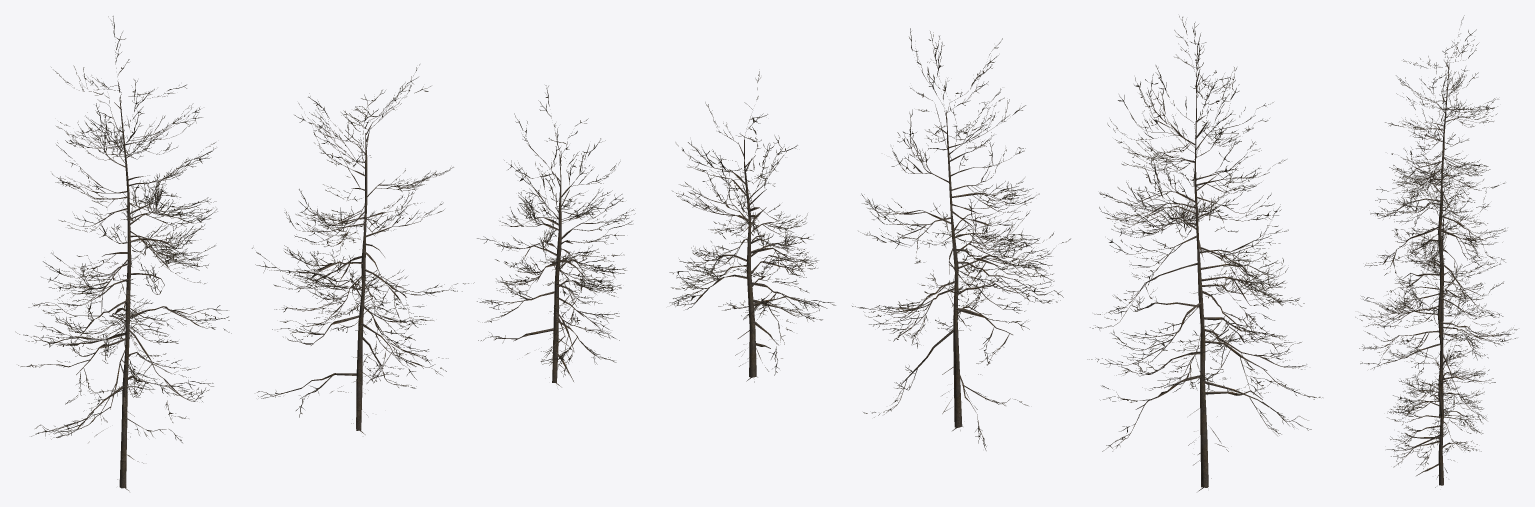
File: pine_sapling_medium_preview.glb
3 views of the same model, side by side, from view 1: azimuth 30°, elevation 25°; view 2: azimuth 150°, elevation 25°; view 3: azimuth 270°, elevation 25° (orthographic). The views are drawn at different scales.
Visible parts, largest first — view 1: pine_sapling_medium_a_LOD0, pine_sapling_medium_b_LOD0, pine_sapling_medium_c_LOD0; view 2: pine_sapling_medium_a_LOD0, pine_sapling_medium_b_LOD0, pine_sapling_medium_c_LOD0; view 3: pine_sapling_medium_a_LOD0, pine_sapling_medium_b_LOD0, pine_sapling_medium_c_LOD0.
Boxes of the visible parts, <box> form: pine_sapling_medium_a_LOD0: <box>15,16,231,491</box>; pine_sapling_medium_b_LOD0: <box>252,64,474,434</box>; pine_sapling_medium_c_LOD0: <box>477,85,635,387</box>; pine_sapling_medium_a_LOD0: <box>1087,16,1322,491</box>; pine_sapling_medium_b_LOD0: <box>852,28,1070,450</box>; pine_sapling_medium_c_LOD0: <box>669,71,835,382</box>; pine_sapling_medium_a_LOD0: <box>1364,15,1505,339</box>; pine_sapling_medium_b_LOD0: <box>1355,162,1517,423</box>; pine_sapling_medium_c_LOD0: <box>1386,297,1489,487</box>.
Bounding box in the file's own units: 15.37 × 11.43 × 5.28.
3 materials, 3 textured.
